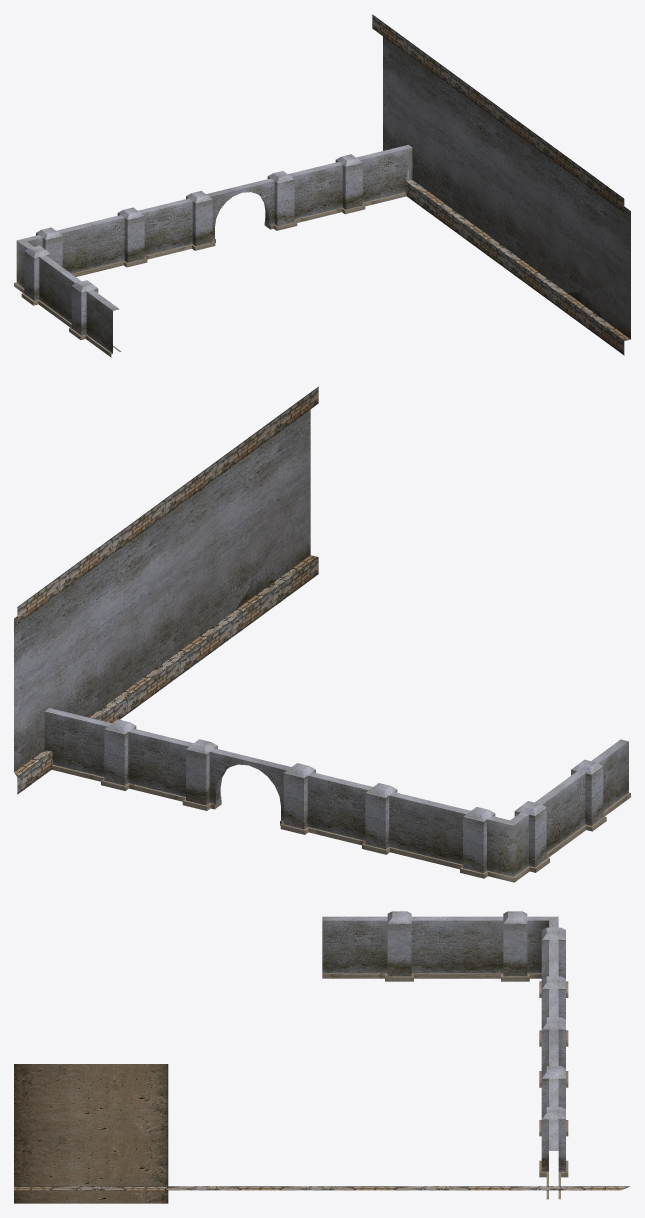
Rendered from M11Z1_Building08_B.glb.
3 renders of one model, top to bottom at view 1: azimuth 30°, elevation 25°; view 2: azimuth 150°, elevation 25°; view 3: azimuth 270°, elevation 25°, orthographic. The views are drawn at different scales.
Parts seen in each view (by area): view 1: M11Z1_BUILDING08_B; view 2: M11Z1_BUILDING08_B; view 3: M11Z1_BUILDING08_B.
Part boxes in pixels (x1,y1,x2,y2): M11Z1_BUILDING08_B: (14, 14, 630, 357); M11Z1_BUILDING08_B: (14, 386, 630, 882); M11Z1_BUILDING08_B: (14, 911, 629, 1203).
Size of the model in its own units: 29.25 by 11 by 32.
4 materials, 4 textured.
